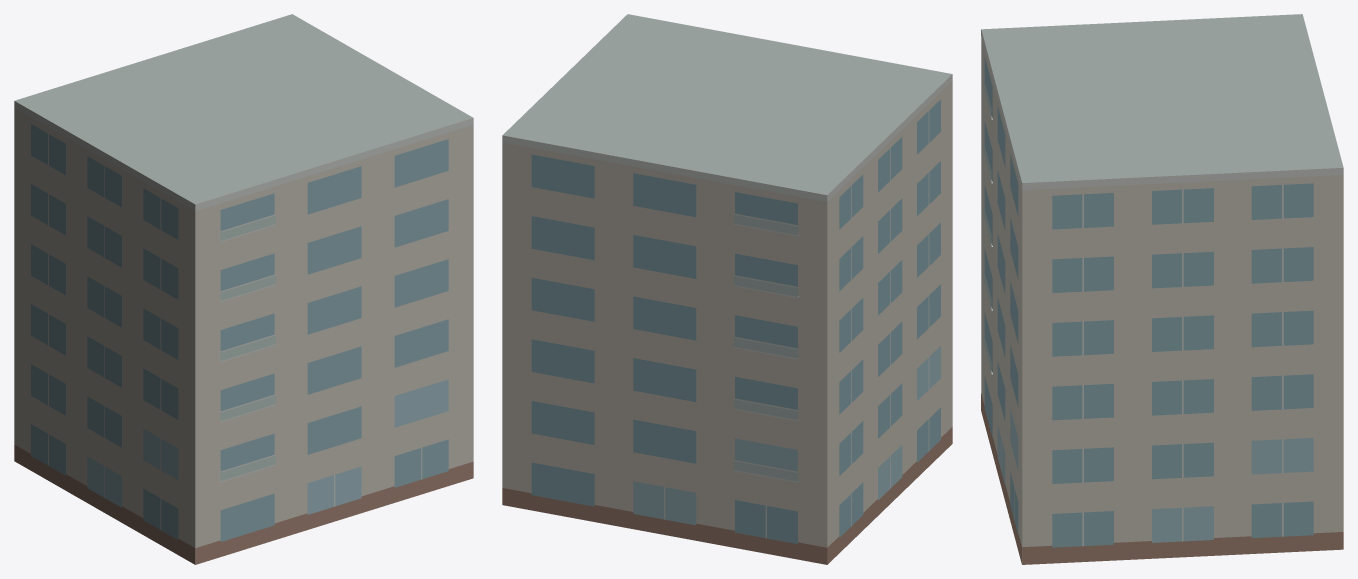
Rendered from survey-upis-32885115.glb.
3 renders of one model, left to right at view 1: azimuth 30°, elevation 25°; view 2: azimuth 150°, elevation 25°; view 3: azimuth 270°, elevation 25°, orthographic. The views are drawn at different scales.
Parts seen in each view (by area): view 1: survey-upis-32885115.tmp; view 2: survey-upis-32885115.tmp; view 3: survey-upis-32885115.tmp.
Boxes of the visible parts, left/top/right/bottom form: survey-upis-32885115.tmp: left=14, top=14, right=473, bottom=564; survey-upis-32885115.tmp: left=502, top=14, right=952, bottom=564; survey-upis-32885115.tmp: left=981, top=14, right=1343, bottom=564.
Bounding box in the file's own units: 12.55 × 13.2 × 11.37.
